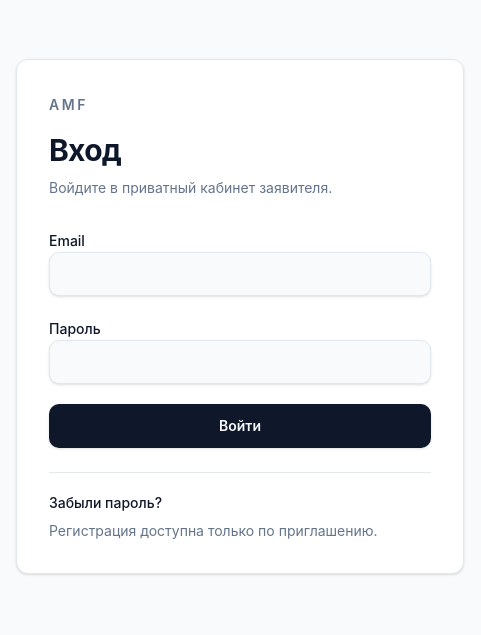
Test: authentication forms › maps rate limits with retry guidance
Type "applicant@example.com" into the field labelled "Email" at (240, 274), box [49, 252, 431, 296]
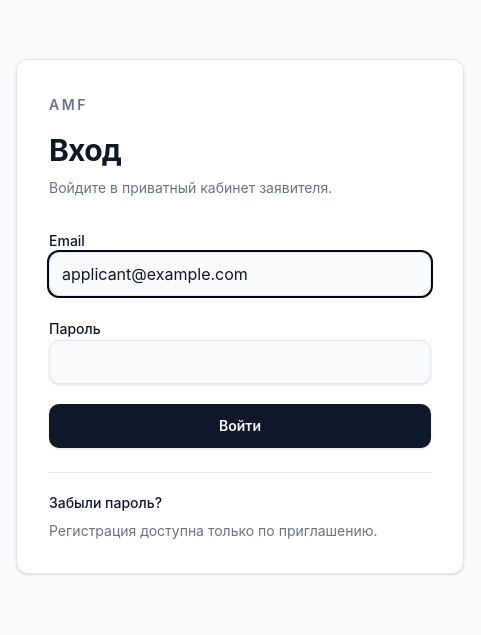
Type "wrong-password" into the password field labelled "Пароль" at (240, 362), box [49, 340, 431, 384]
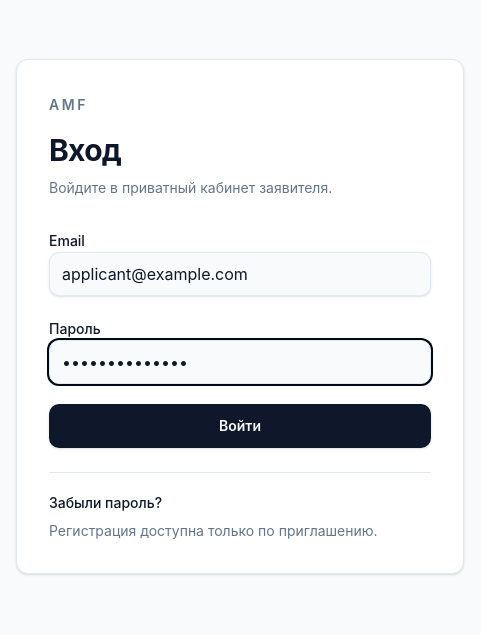
Click the button "Войти" at (240, 426), box [49, 404, 431, 448]
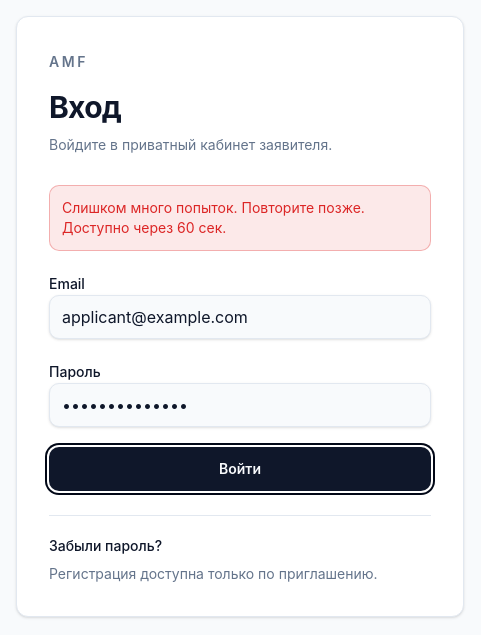
Now the message shows "Доступно через 60 сек.", box [62, 198, 365, 236]
